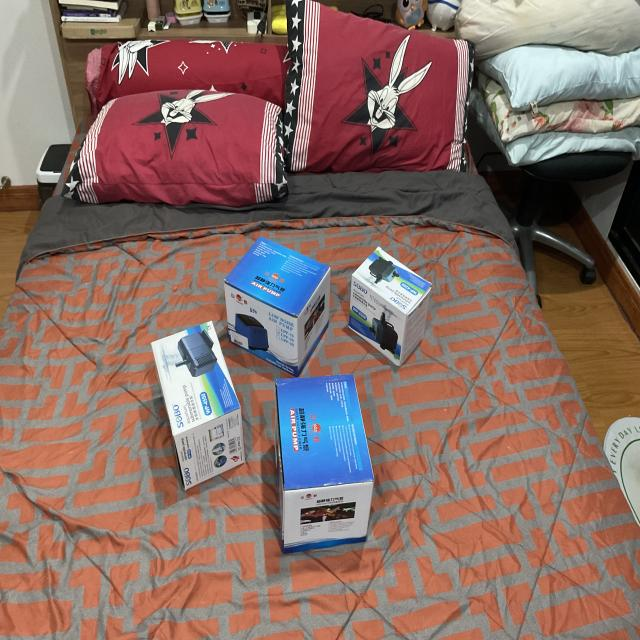SOBO_WP_4200: (146, 318, 249, 498), (340, 244, 438, 376)
YAMANO_LPP_20: (266, 367, 385, 556), (218, 225, 340, 372)
